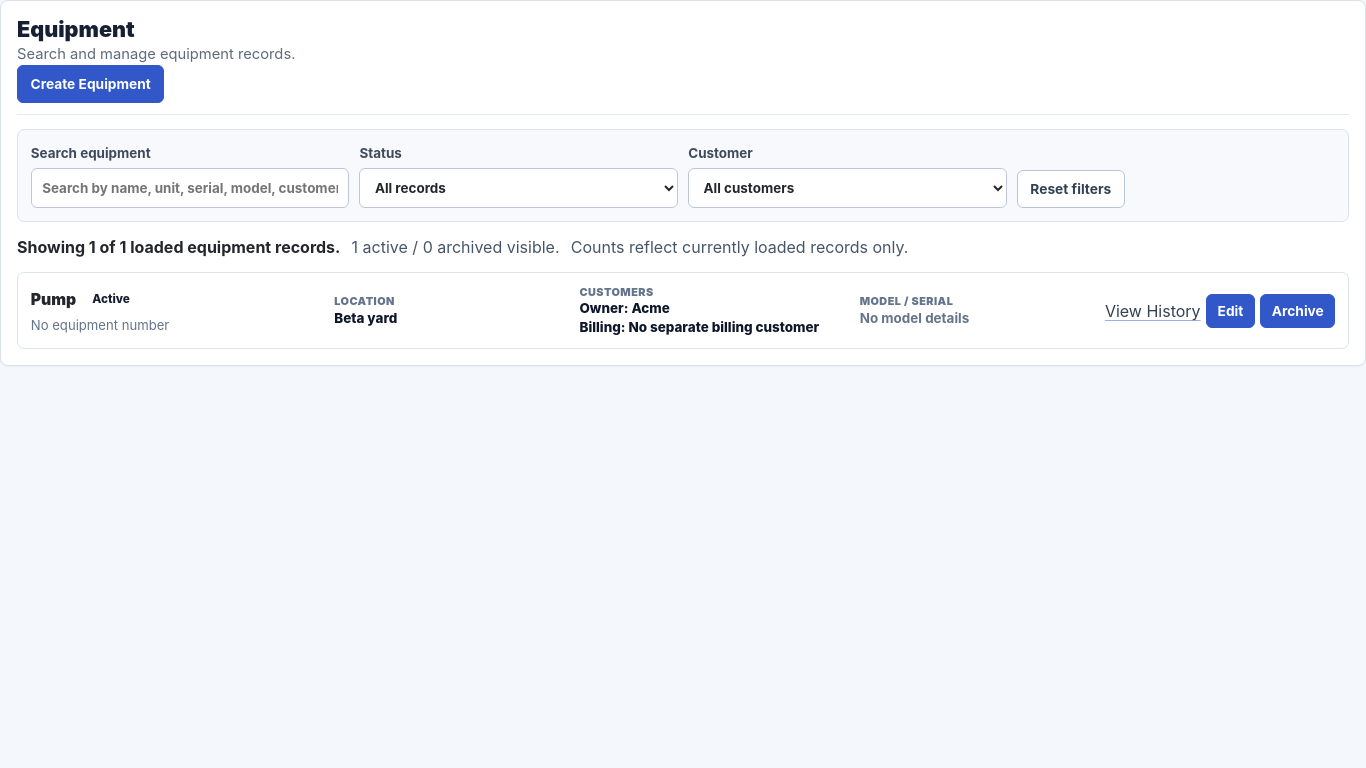
Test case: MasterData equipment customer/location validation › keeps mismatched equipment customer and service location from submitting
Expected: the list item "Pump" is shown, top-left (31, 290), bottom-right (76, 309)
Click the button "Edit" at [1230, 311], box top-left (1206, 294), bottom-right (1255, 328)
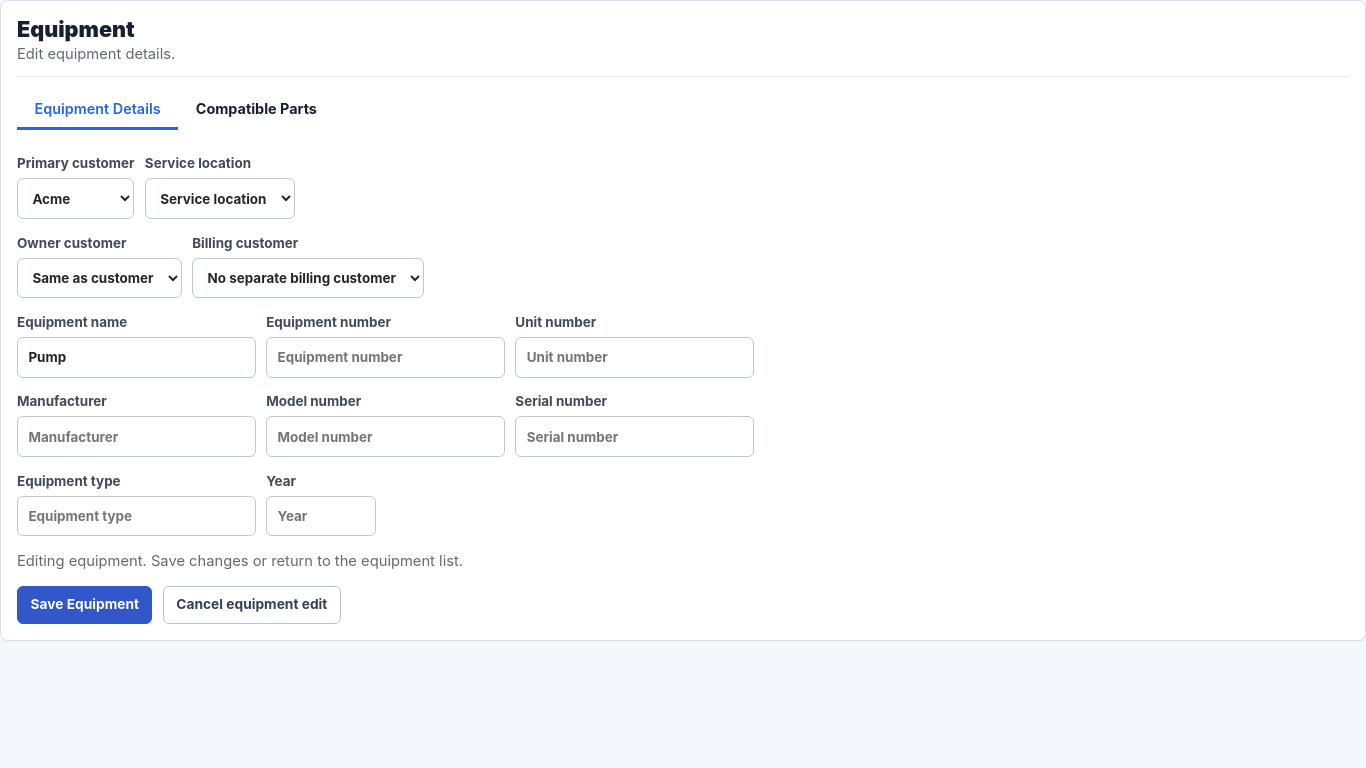
Now the form named "Save Equipment" is shown
Submit the form named "Save Equipment", box top-left (17, 155), bottom-right (754, 624)
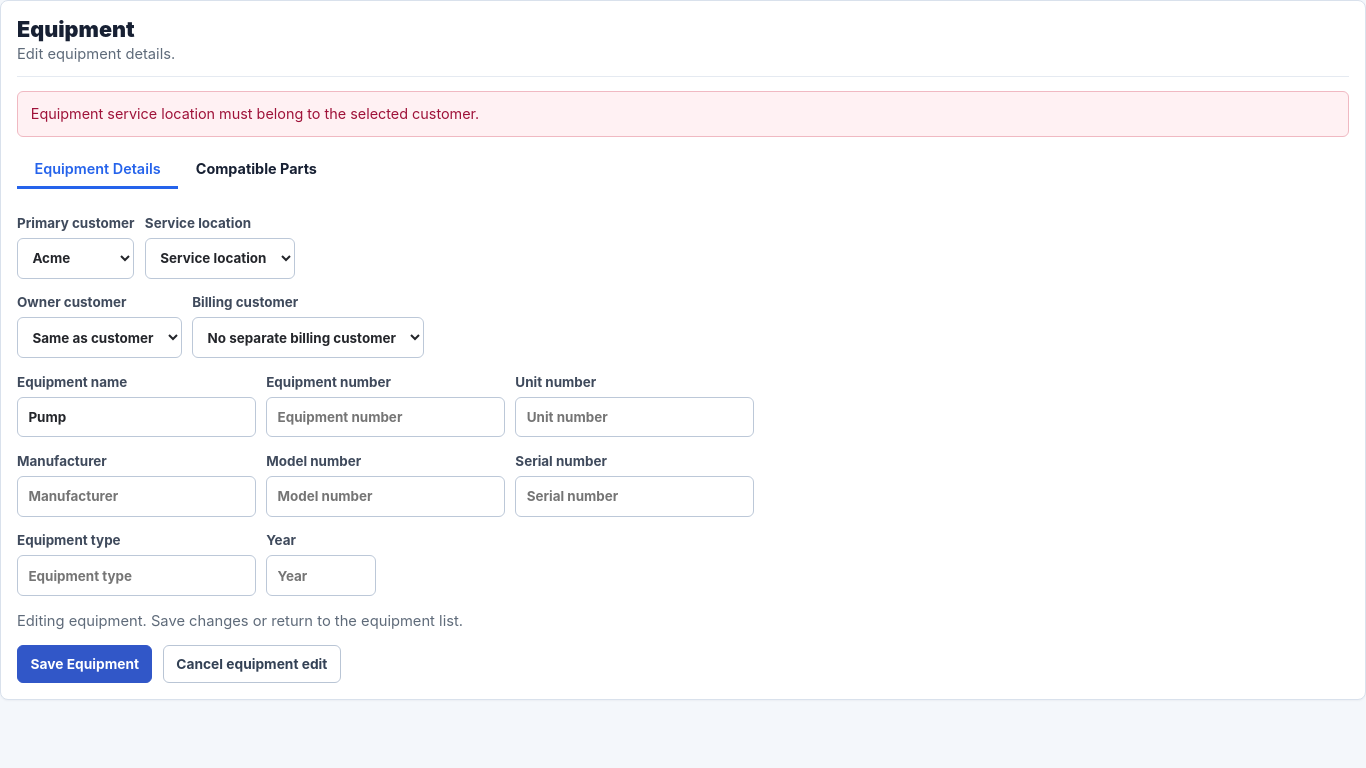
Now the text "Equipment service location must belong to the selected customer." is shown, box top-left (17, 91), bottom-right (1349, 137)
